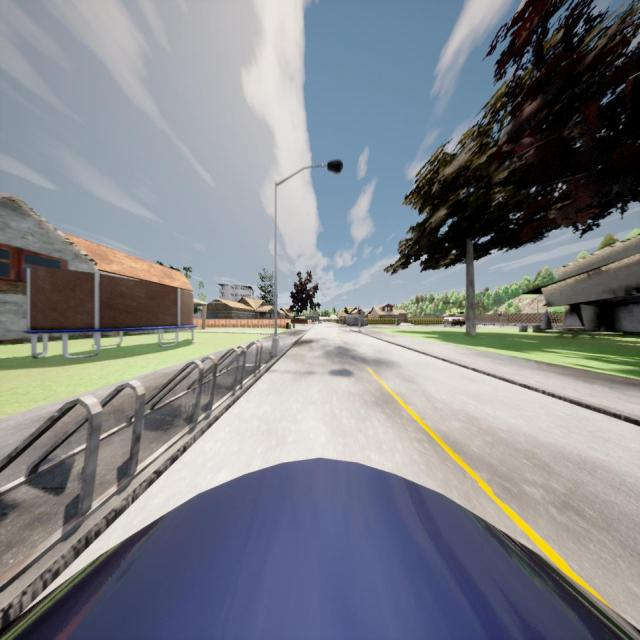Vehicle: (0, 457, 640, 639), (442, 316, 466, 328), (347, 314, 368, 327)
traffic_light: (358, 307, 361, 314)
